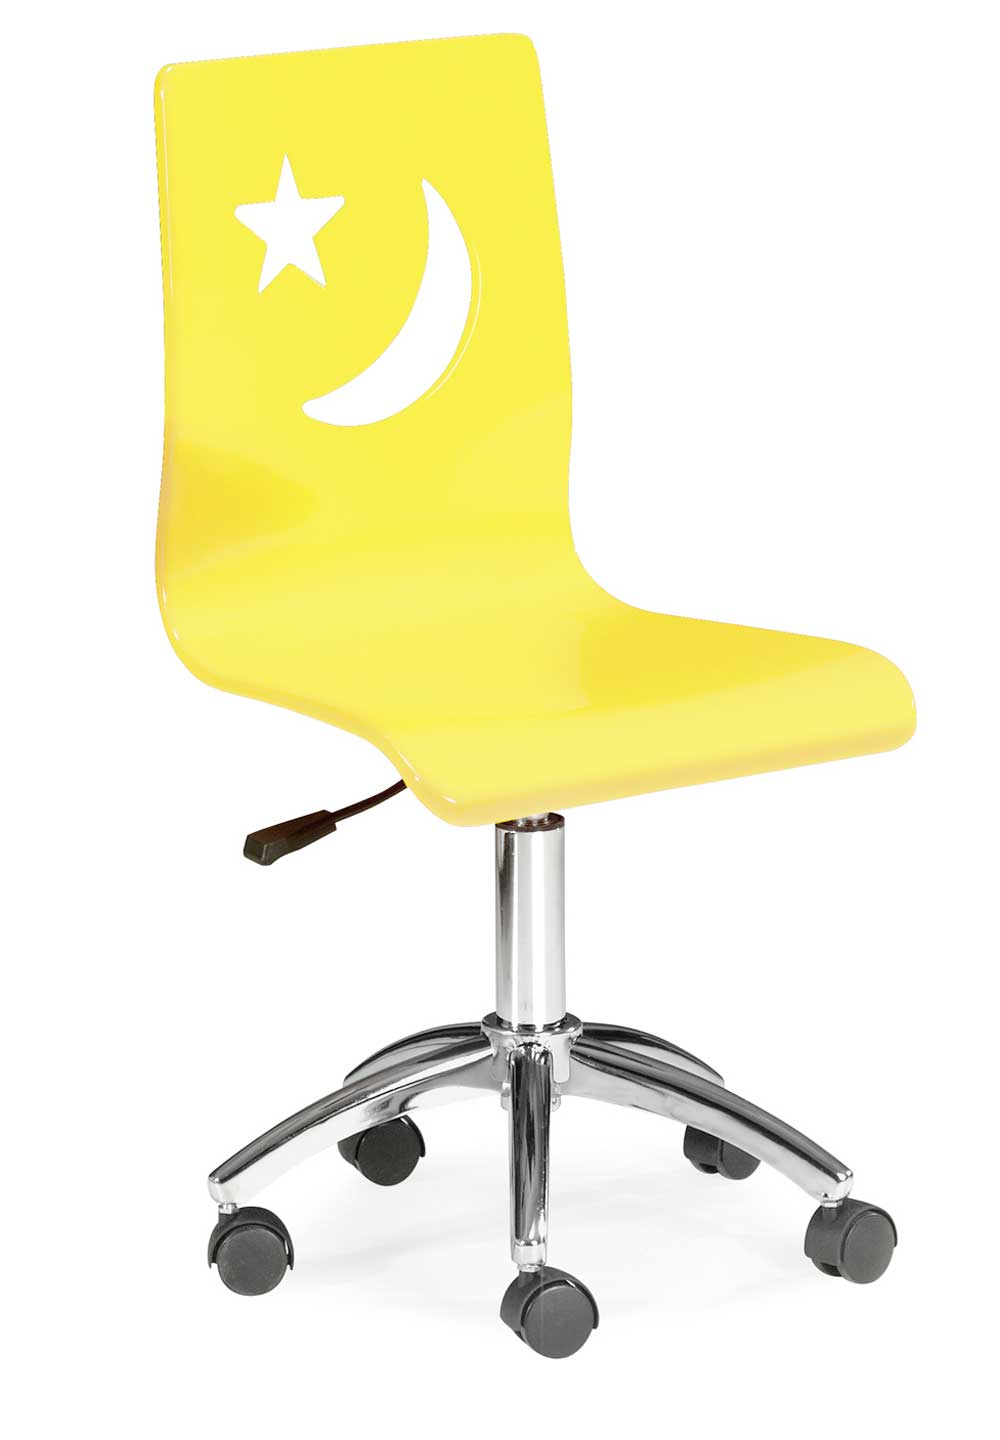chairs: (121, 32, 927, 1364)
